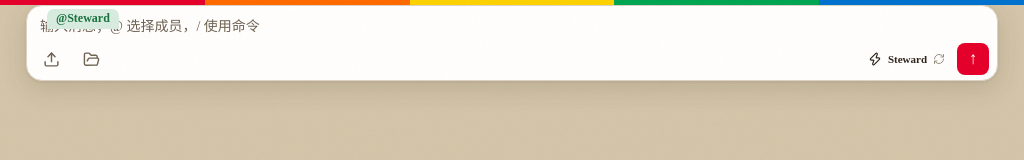
Test: targeted restart through the public Composer UI owner › keeps a rejected restart as a visible retryable failure
This screenshot has width=1024, height=160.
Type "/restart" into the field named "消息".
click(512, 27); type("/restart")  # box x1=35 y1=12 x2=989 y2=42
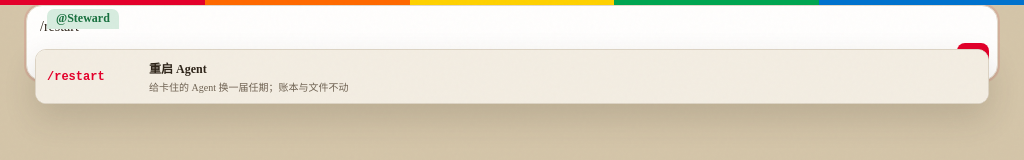
Click the option "/restart 重启 Agent 给卡住的 Agent 换一届任期；账本与文件不动".
click(79, 76)  # box x1=36 y1=50 x2=988 y2=103
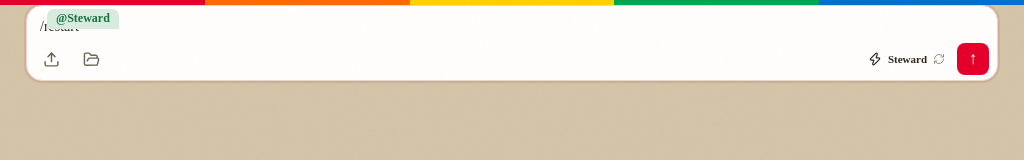
Press Enter
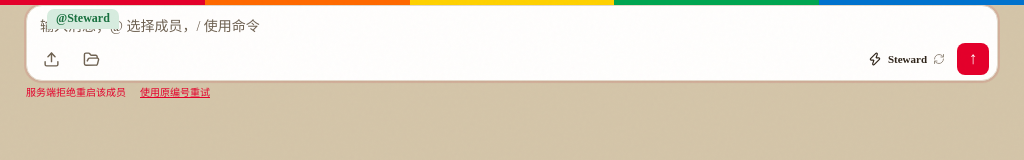
Now the message "服务端拒绝重启该成员 使用原编号重试" is shown, box x1=26 y1=85 x2=216 y2=101
Now the button "使用原编号重试" is shown, box x1=134 y1=85 x2=216 y2=101
